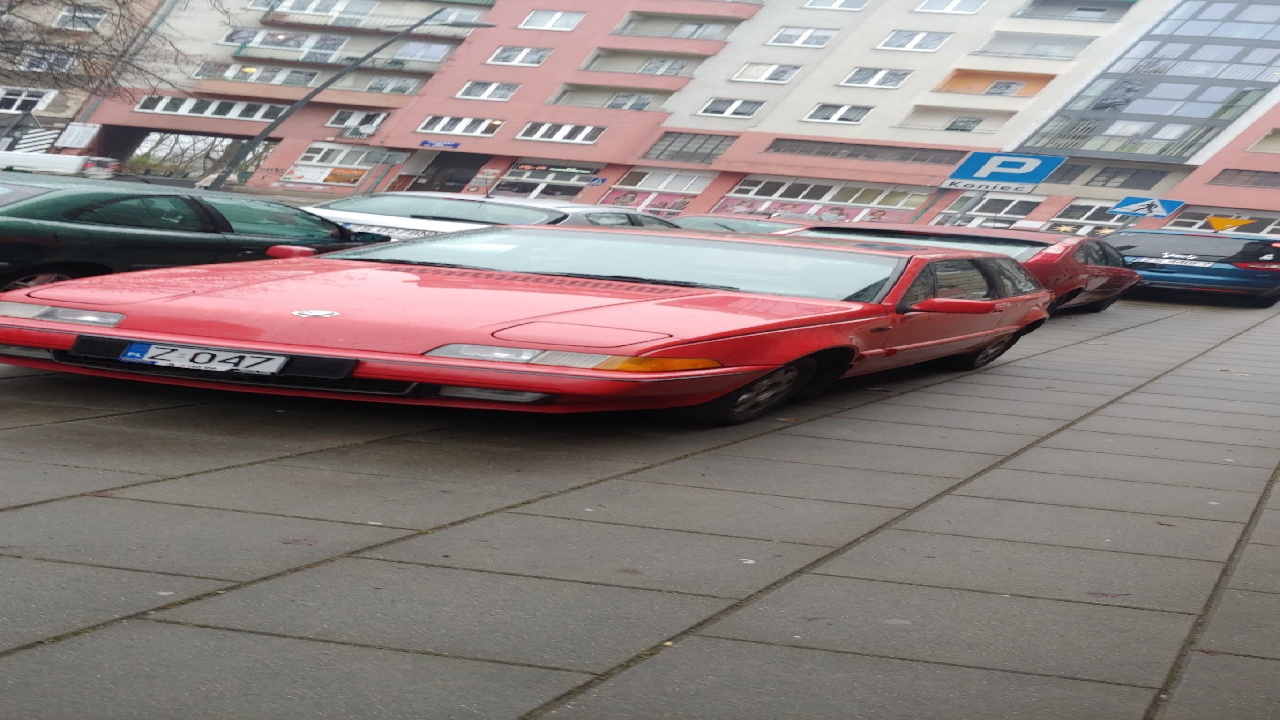D18: (957, 141, 1059, 185)
D6: (1106, 185, 1183, 220)
